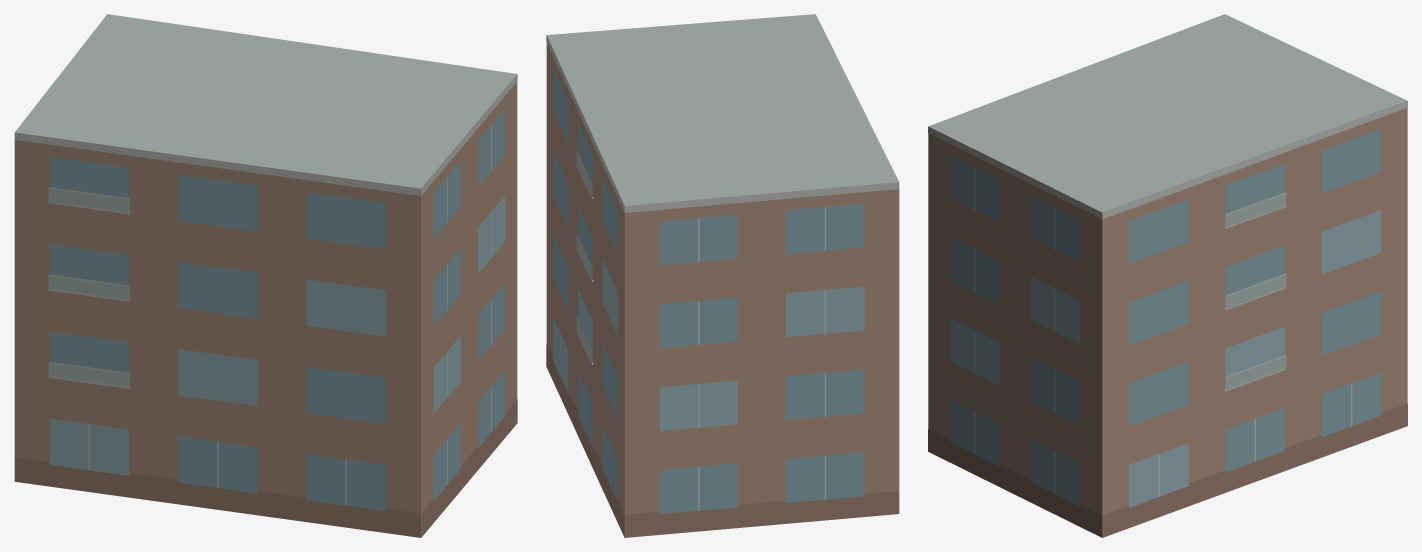
File: survey-upis-32937926.glb
3 views of the same model, side by side, from view 1: azimuth 30°, elevation 25°; view 2: azimuth 150°, elevation 25°; view 3: azimuth 270°, elevation 25° (orthographic). The views are drawn at different scales.
Parts seen in each view (by area): view 1: survey-upis-32937926.tmp; view 2: survey-upis-32937926.tmp; view 3: survey-upis-32937926.tmp.
Part boxes in pixels (x1=…): survey-upis-32937926.tmp: x1=14, y1=14, x2=517, y2=537; survey-upis-32937926.tmp: x1=546, y1=14, x2=899, y2=537; survey-upis-32937926.tmp: x1=928, y1=14, x2=1407, y2=537.
Size of the model in its own units: 15.26 by 11.65 by 15.57.
